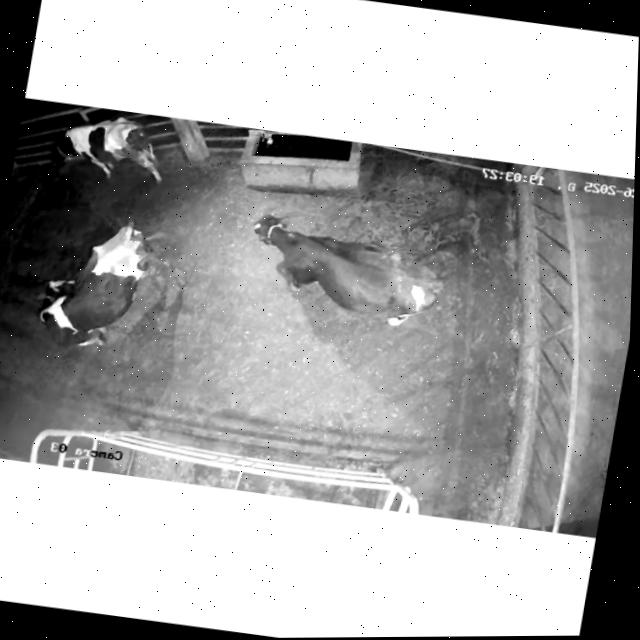stand: (226, 200, 481, 347), (23, 190, 215, 384), (42, 100, 181, 199)
